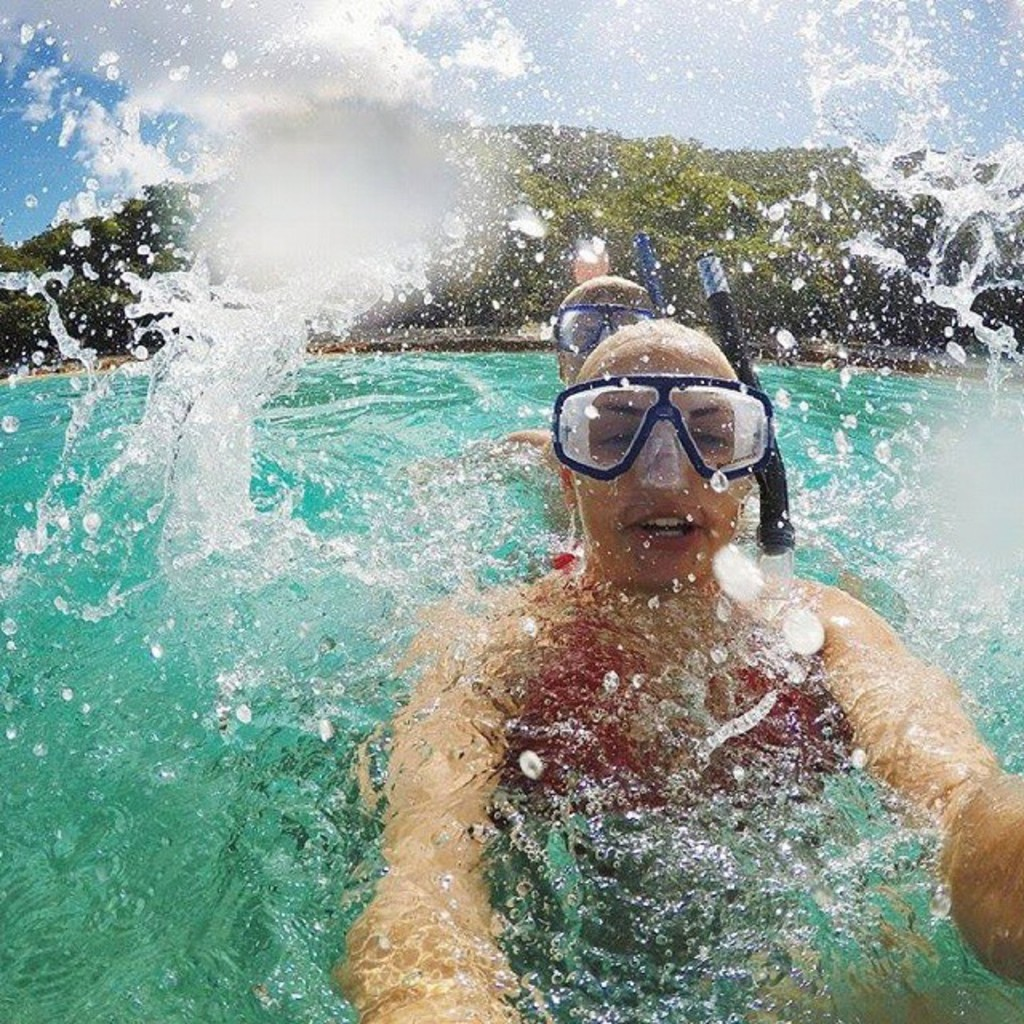Tree: (0, 121, 1023, 365)
